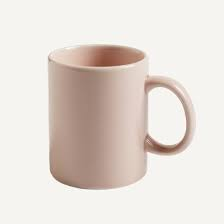mug: (22, 46, 197, 202)
